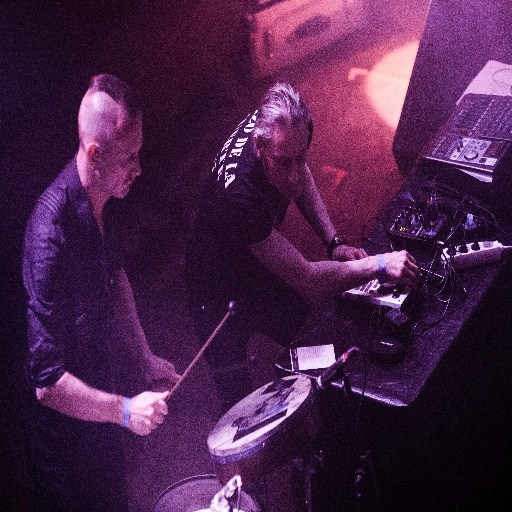hand: (118, 387, 164, 438), (382, 247, 424, 296), (140, 355, 181, 395), (331, 241, 367, 262)
